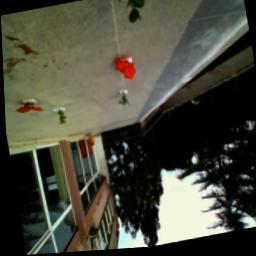herb: (118, 1, 150, 30), (116, 94, 131, 110), (56, 110, 68, 128)
wild: (115, 59, 137, 86), (14, 101, 45, 118)
